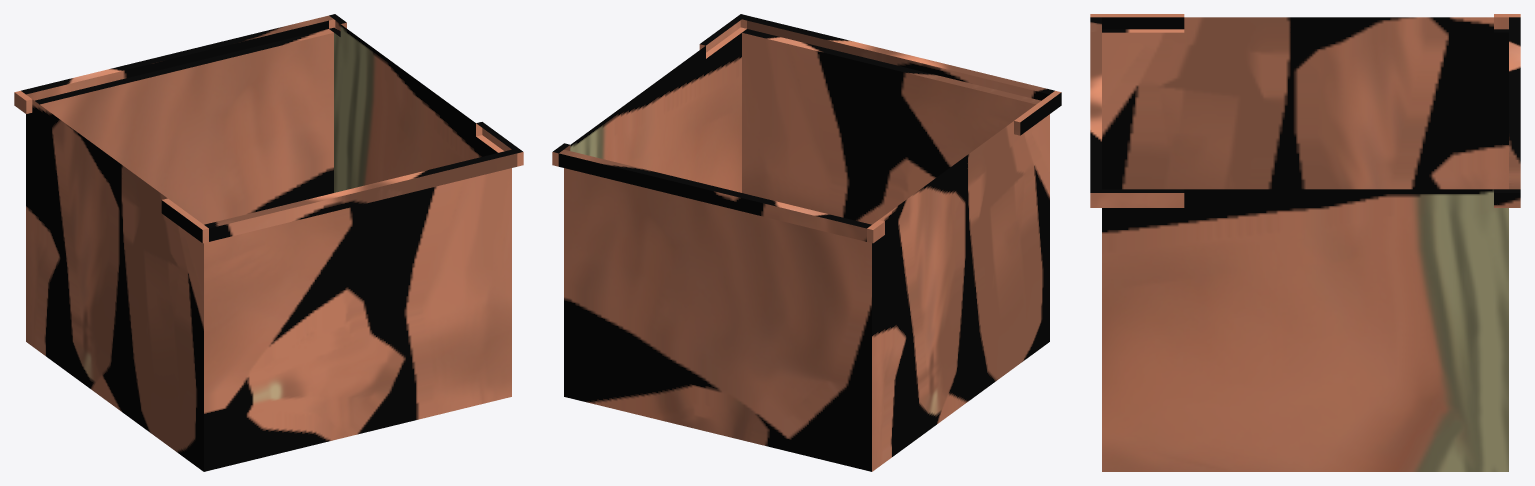
File: Tower_Midst_01.fbx
3 views of the same model, side by side, from view 1: azimuth 30°, elevation 25°; view 2: azimuth 150°, elevation 25°; view 3: azimuth 270°, elevation 25° (orthographic). The views are drawn at different scales.
Parts seen in each view (by area): view 1: Tower_Midst_01; view 2: Tower_Midst_01; view 3: Tower_Midst_01.
Part boxes in pixels (<box>): Tower_Midst_01: <box>14,14,523,471</box>; Tower_Midst_01: <box>552,14,1061,471</box>; Tower_Midst_01: <box>1090,14,1520,471</box>.
Size of the model in its own units: 2.08 by 1.53 by 2.12.
